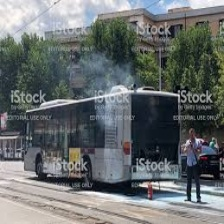smoke: (88, 64, 124, 89)
